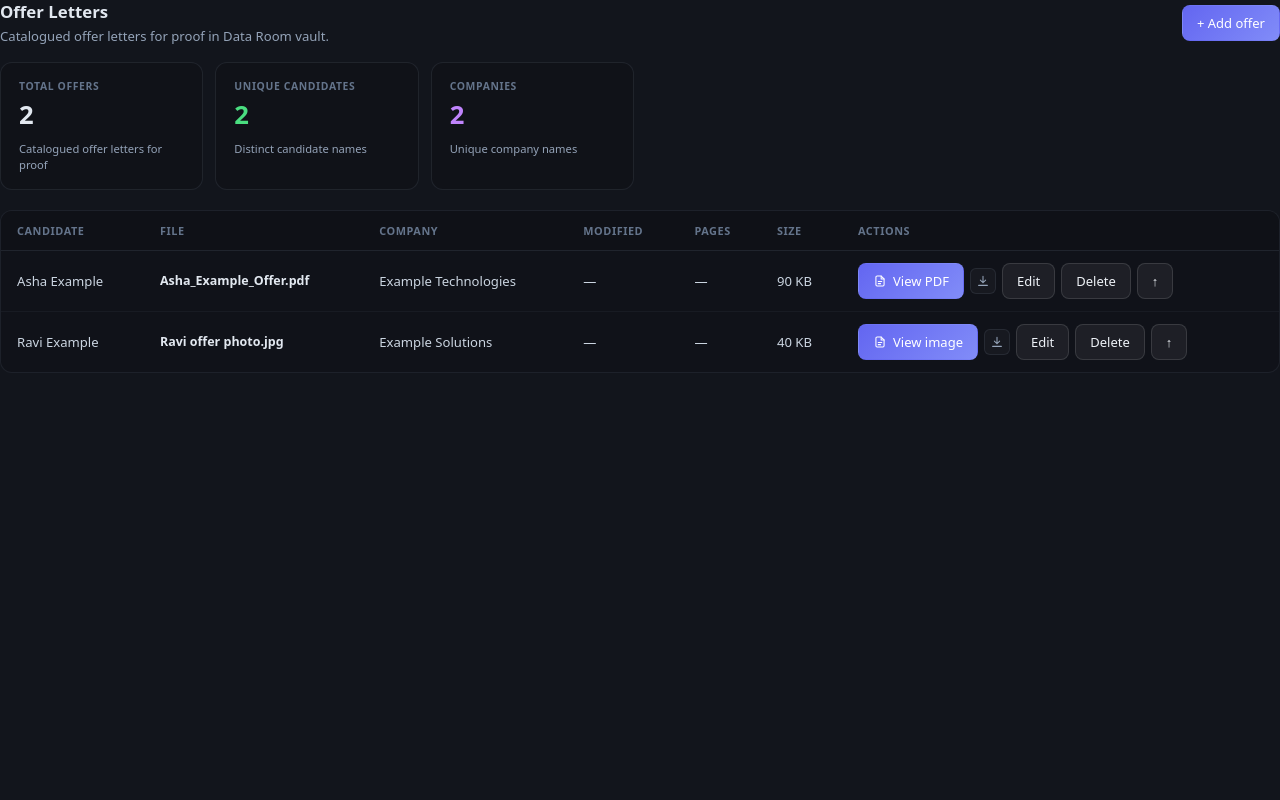
Test: the preview of a PDF › opens on the page, fetches the file once and hands pdf.js the bytes exactly
Click the button with aria-label "View PDF for Asha Example". click: (911, 280)
box: [858, 262, 964, 298]
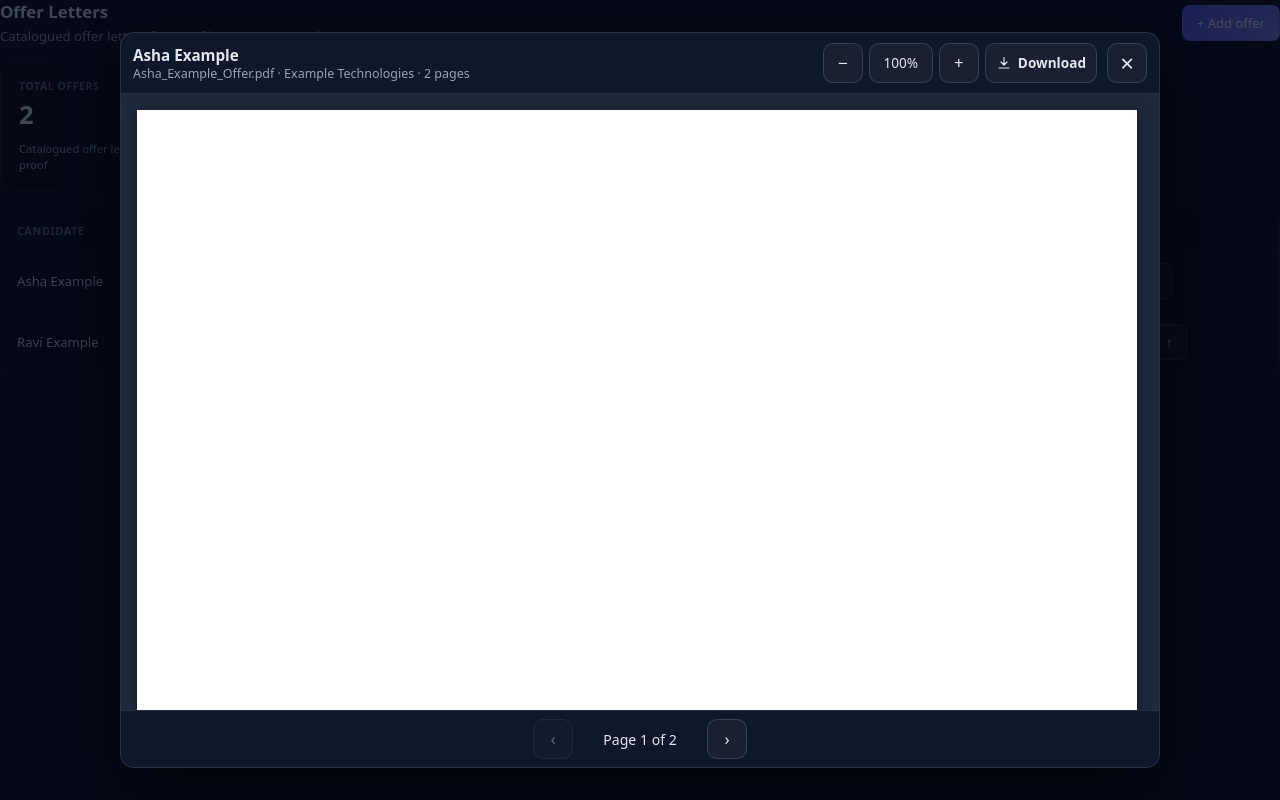
Expected: the dialog "Example" shows "Asha_Example_Offer.pdf · Example Technologies · 2 pages", [133, 64, 470, 82]
